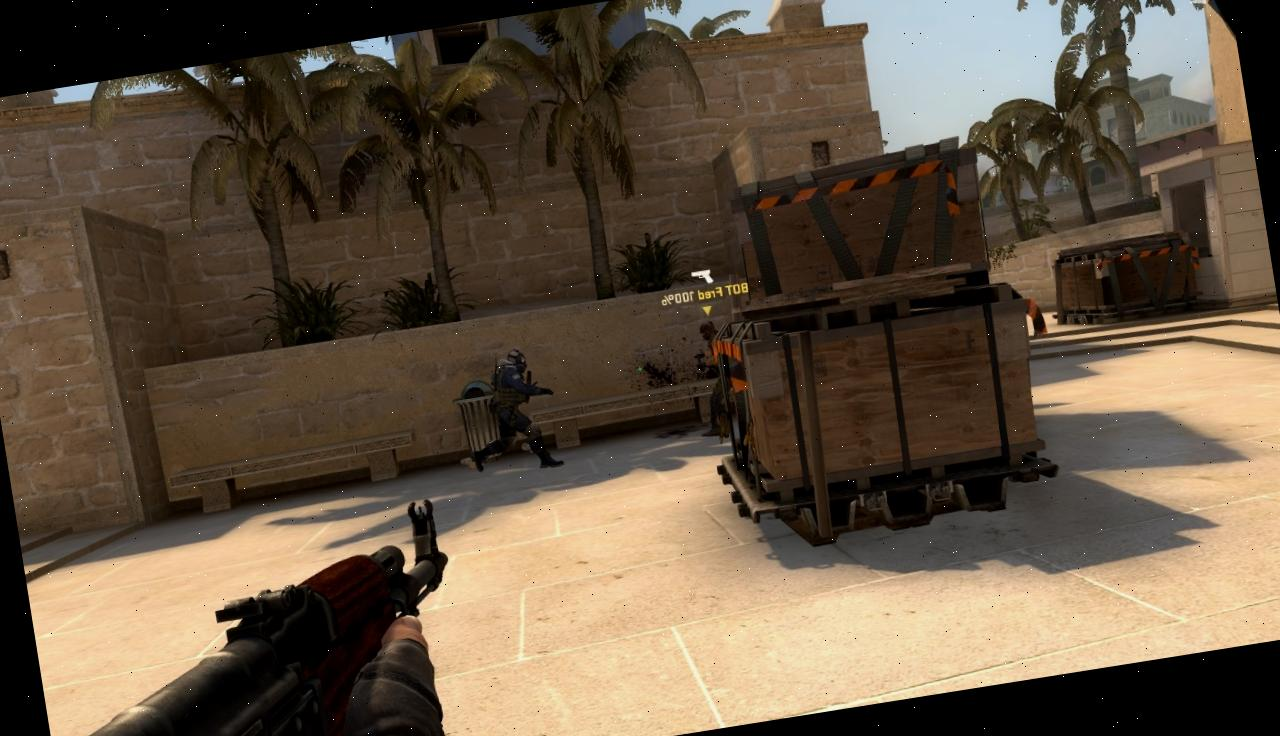ct: (478, 346, 560, 475)
cthead: (505, 347, 528, 372)
rifle: (22, 495, 481, 736)
tt: (688, 319, 739, 437)
tthead: (697, 322, 719, 340)
